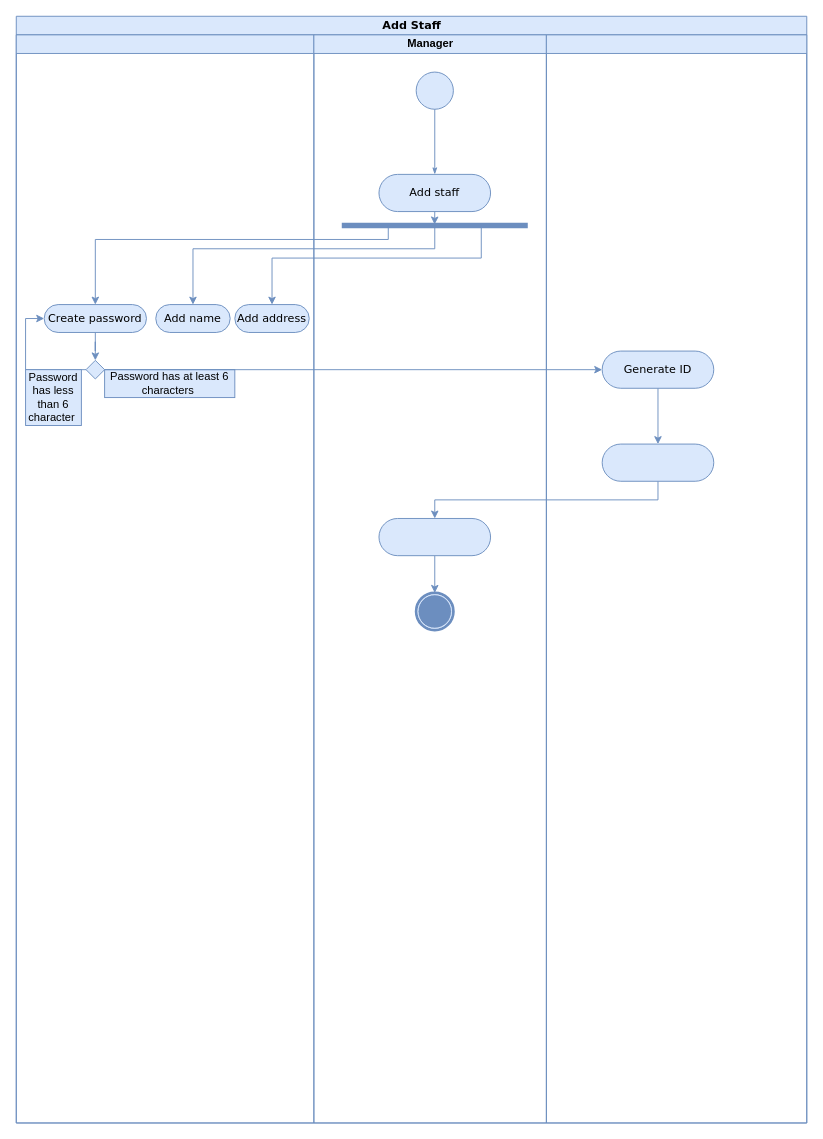
Image size: 823x1139. Some labels were removed from this diagram. Each missing label, with the box of its shape:
Save staff to database: (601, 443, 714, 481)
Show ID and information: (378, 518, 491, 556)
Staff: (15, 34, 314, 1123)
System: (545, 34, 807, 1123)
